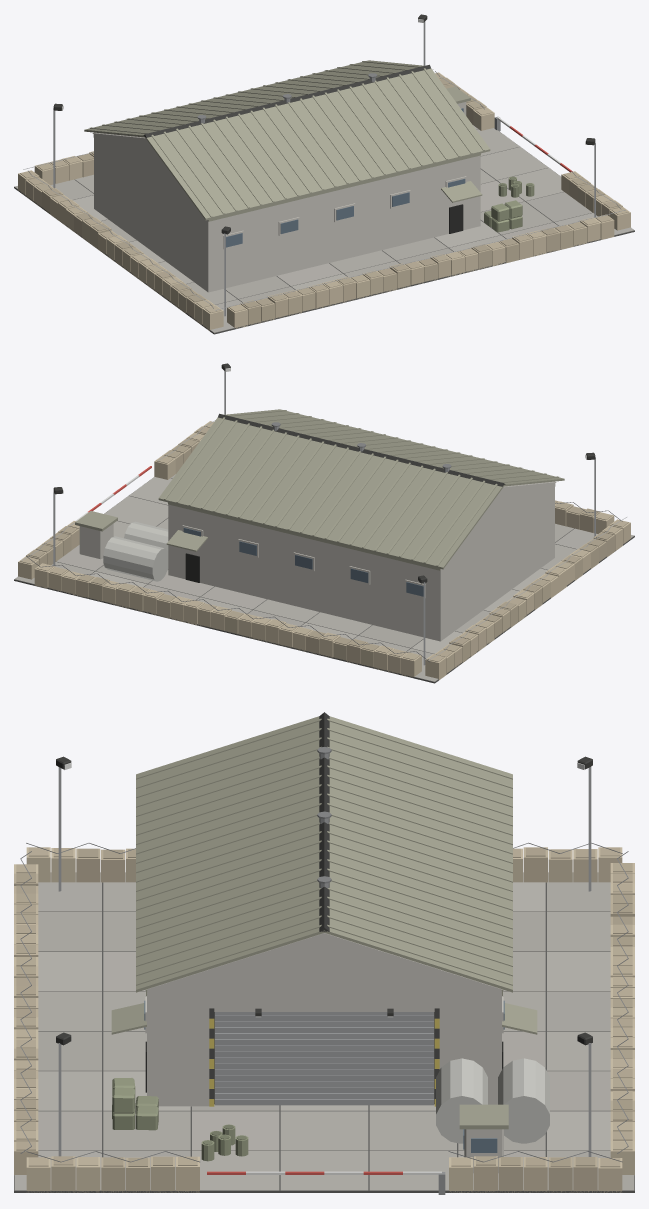
Rendered from b_tankshop.glb.
3 renders of one model, top to bottom at view 1: azimuth 30°, elevation 25°; view 2: azimuth 150°, elevation 25°; view 3: azimuth 270°, elevation 25°, orthographic. The views are drawn at different scales.
Parts seen in each view (by area): view 1: hull; view 2: hull; view 3: hull, door.
Boxes of the visible parts, box(x1,y1,x2,y2) form: hull: box(14, 14, 634, 334); hull: box(14, 363, 634, 683); hull: box(14, 712, 634, 1194); door: box(215, 1012, 433, 1105).
Bounding box in the file's own units: 34.2 × 9.51 × 28.
